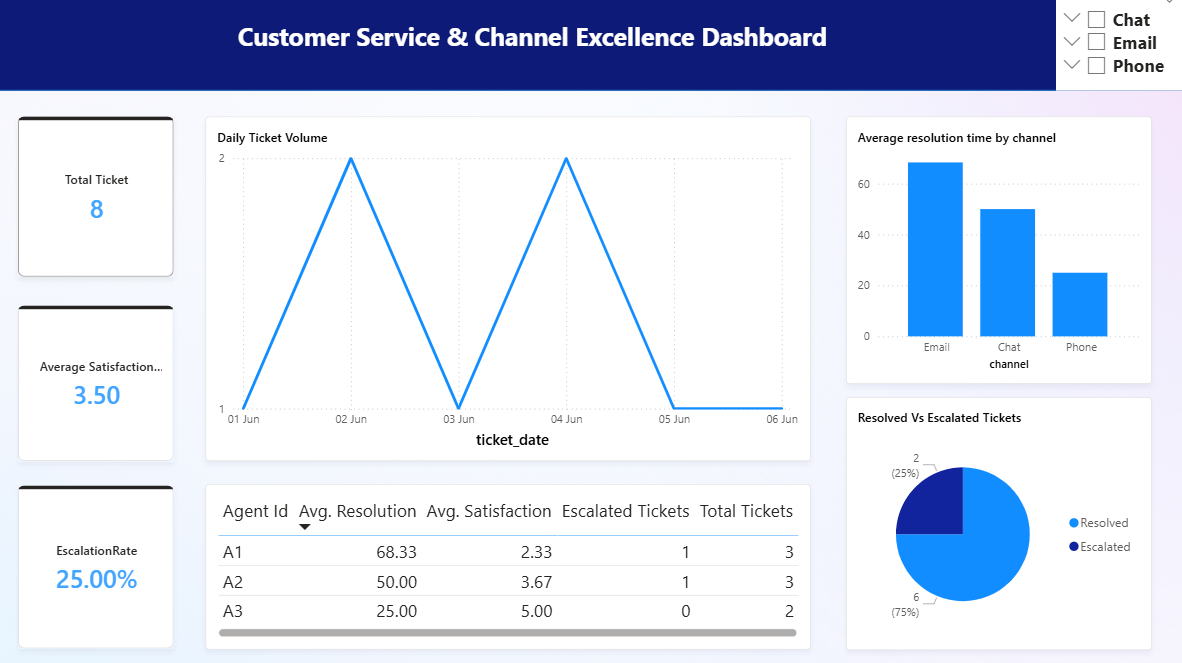

The dashboard page shown, as its layout file describes it:
{"tool":"powerbi","page":{"name":"Page 1","canvas":[1280,720],"ordinal":0},"visuals":[{"type":"cardVisual","fields":{"Data":["CountNonNull(Tickets.ticket_id)"]},"box":[23.3,128.3,168.3,173.3],"z":0},{"type":"cardVisual","fields":{"Data":["Avg(Tickets.satisfaction_score)"]},"box":[23.3,331.7,168.3,168.3],"z":1000},{"type":"cardVisual","fields":{"Data":["Tickets.EscalationRate"]},"box":[23.3,526.7,168.3,176.7],"z":2000},{"type":"lineChart","title":"Daily Ticket Volume","fields":{"Category":["Tickets.ticket_date"],"Y":["CountNonNull(Tickets.ticket_id)"]},"box":[225,128.3,653.3,371.7],"z":3000},{"type":"columnChart","title":"Average resolution time by channel","fields":{"Category":["Tickets.channel"],"Y":["Avg(Tickets.resolution_time)"]},"box":[916.7,128.3,330,288.3],"z":4000},{"type":"pieChart","title":"Resolved Vs Escalated Tickets","fields":{"Category":["Tickets.status"],"Y":["CountNonNull(Tickets.ticket_id)"]},"box":[916.7,430,330,273.3],"z":5000},{"type":"tableEx","fields":{"Values":["Agent Summery.agent_id","Agent Summery.avg_resolution","Agent Summery.avg_satisfaction","Agent Summery.escalated_tickets","Agent Summery.ticket_count"]},"box":[225,525,653.3,178.3],"z":6000},{"type":"shape","box":[0,0,1280,100],"z":8000},{"type":"slicer","fields":{"Values":["Tickets.channel","Tickets.ticket_date","Tickets.agent_id"]},"box":[1143.3,0,136.7,100],"z":8500},{"type":"textbox","box":[240,18.3,676.7,63.3],"z":9000}]}

Visuals, with their boxes on the page's 1280x720 design canvas (x1, y1, x2, y2). These are canvas units, not pixel positions in the 1182x663 screenshot, which may show the page scaled, cropped or inside an application window:
cardVisual - CountNonNull(Tickets.ticket_id): Rect(23, 128, 192, 302)
cardVisual - Avg(Tickets.satisfaction_score): Rect(23, 332, 192, 500)
cardVisual - Tickets.EscalationRate: Rect(23, 527, 192, 703)
"Daily Ticket Volume" lineChart: Rect(225, 128, 878, 500)
"Average resolution time by channel" columnChart: Rect(917, 128, 1247, 417)
"Resolved Vs Escalated Tickets" pieChart: Rect(917, 430, 1247, 703)
tableEx - Agent Summery.agent_id x Agent Summery.avg_resolution: Rect(225, 525, 878, 703)
shape: Rect(0, 0, 1280, 100)
slicer - Tickets.channel x Tickets.ticket_date: Rect(1143, 0, 1280, 100)
textbox: Rect(240, 18, 917, 82)
